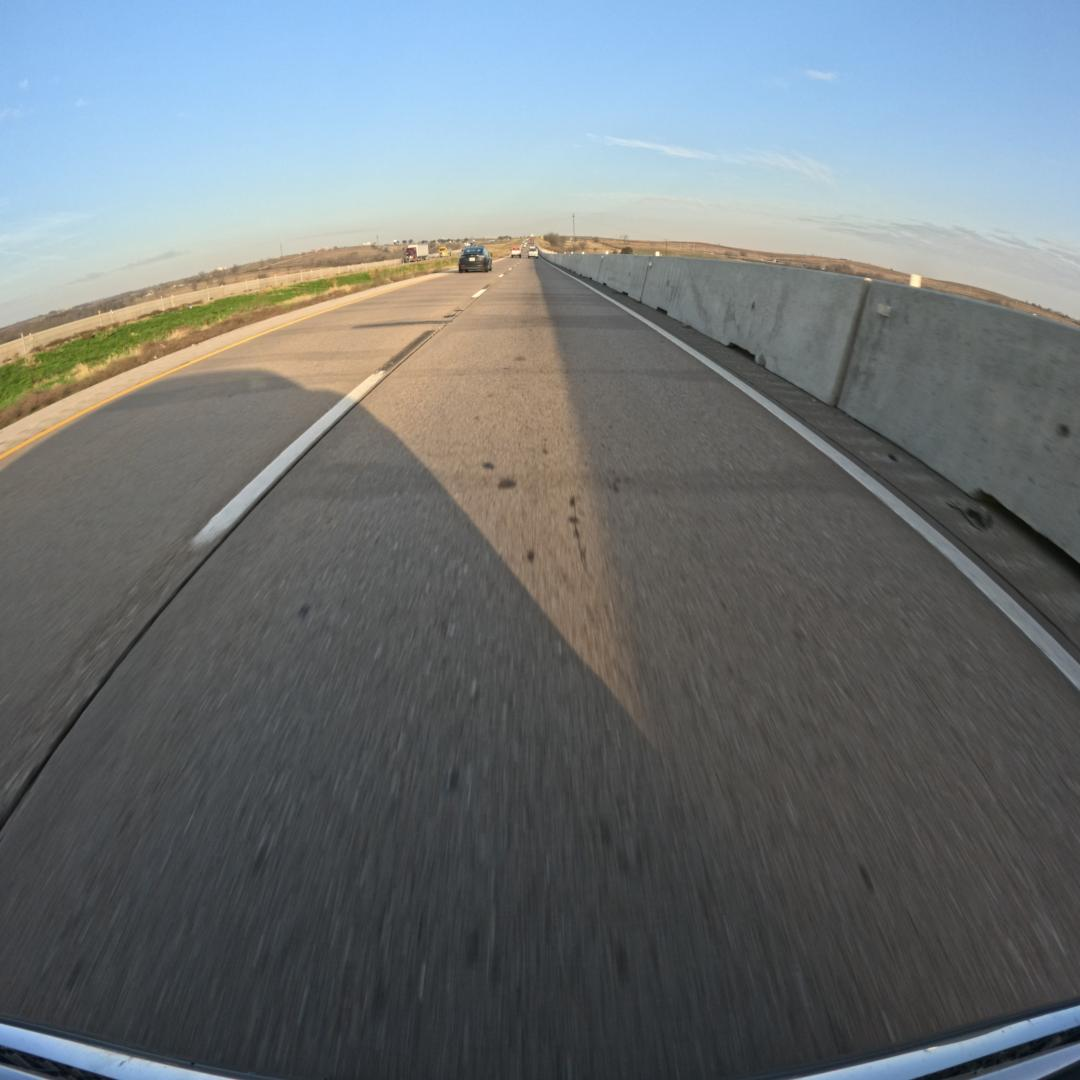lane0: (0, 258, 1080, 1077)
lane1: (0, 259, 518, 826)
